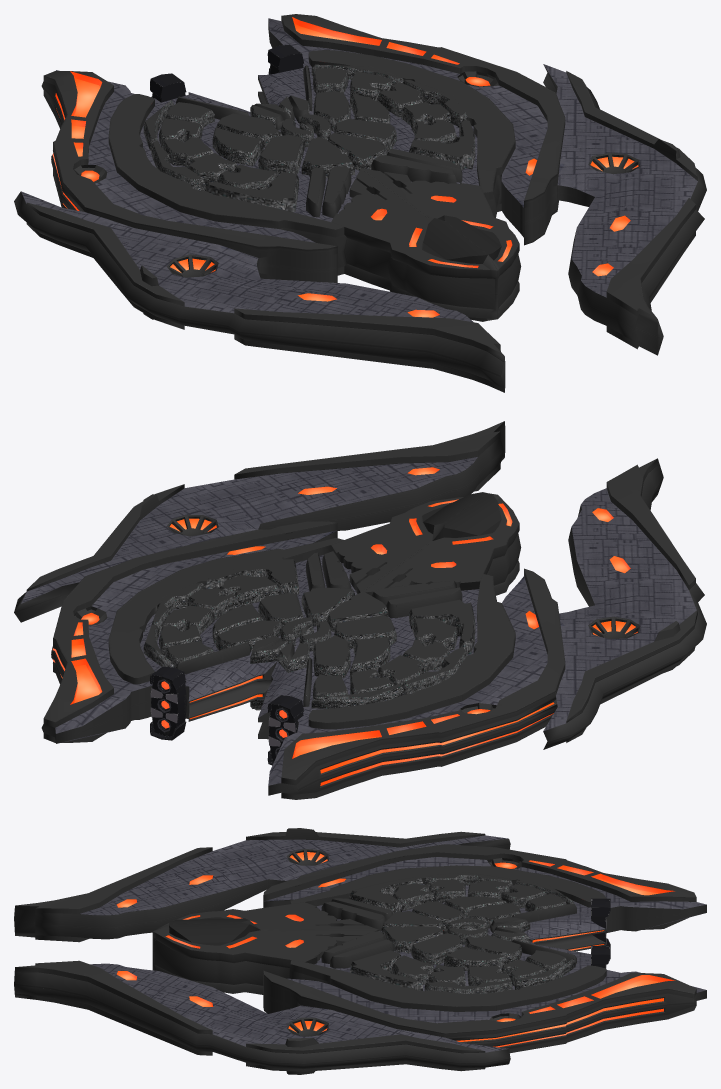
Rendered from nave_inim_5.glb.
3 views of the same model, one above another, from view 1: azimuth 30°, elevation 25°; view 2: azimuth 150°, elevation 25°; view 3: azimuth 270°, elevation 25° (orthographic). The views are drawn at different scales.
Visible parts, largest first — view 1: 1_ship_0, 2_Engine_0; view 2: 1_ship_0, 2_Engine_0; view 3: 1_ship_0, 2_Engine_0.
Boxes of the visible parts, x1,y1,x2,y2 form: 1_ship_0: (14,14,706,392); 2_Engine_0: (150,44,303,102); 1_ship_0: (14,421,706,799); 2_Engine_0: (150,666,303,765); 1_ship_0: (14,828,706,1074); 2_Engine_0: (591,898,610,969).
Size of the model in its own units: 1219 by 147 by 1579.
2 materials, 2 textured.
